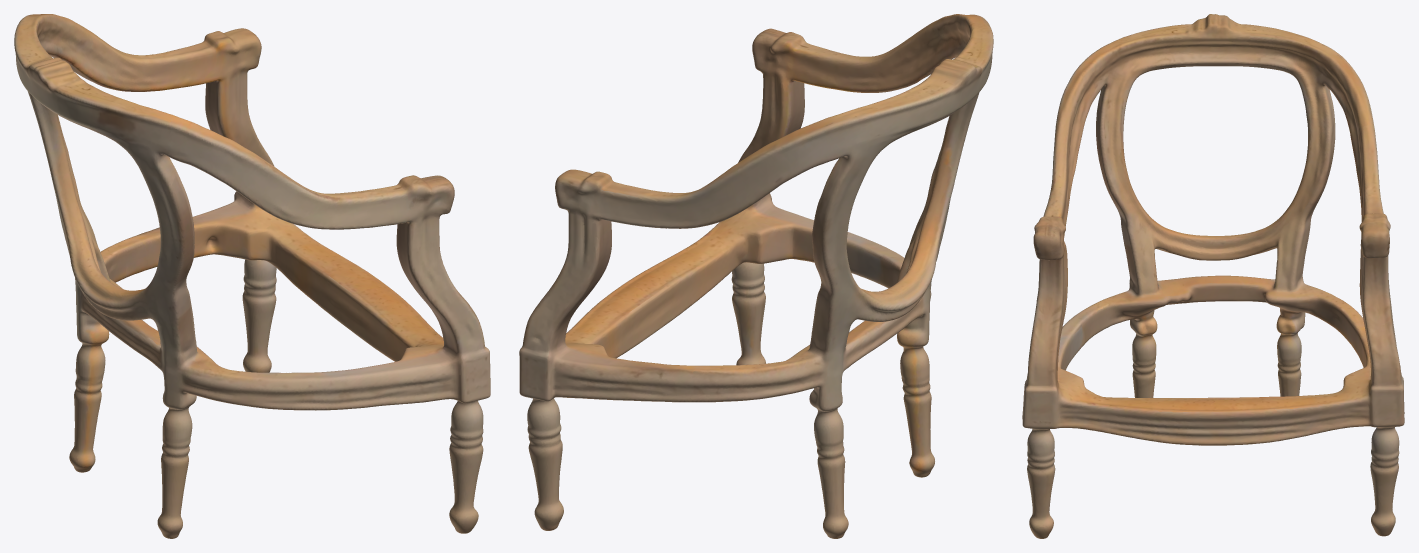
Rendered from 3Dcarcassemedaillon.glb.
The picture shows the model from 3 angles, left to right: view 1: azimuth 30°, elevation 25°; view 2: azimuth 150°, elevation 25°; view 3: azimuth 270°, elevation 25°; orthographic projection. The views are drawn at different scales.
Parts seen in each view (by area): view 1: tripo_node_f46b0a79-9501-459f-9445-80e8ceffe9a8; view 2: tripo_node_f46b0a79-9501-459f-9445-80e8ceffe9a8; view 3: tripo_node_f46b0a79-9501-459f-9445-80e8ceffe9a8.
Boxes of the visible parts, x1,y1,x2,y2 form: tripo_node_f46b0a79-9501-459f-9445-80e8ceffe9a8: (14, 14, 490, 538); tripo_node_f46b0a79-9501-459f-9445-80e8ceffe9a8: (519, 14, 993, 538); tripo_node_f46b0a79-9501-459f-9445-80e8ceffe9a8: (1022, 14, 1404, 538).
Size of the model in its own units: 0.7497 by 0.9461 by 0.8344.
Materials: 1 (1 with a texture image).
